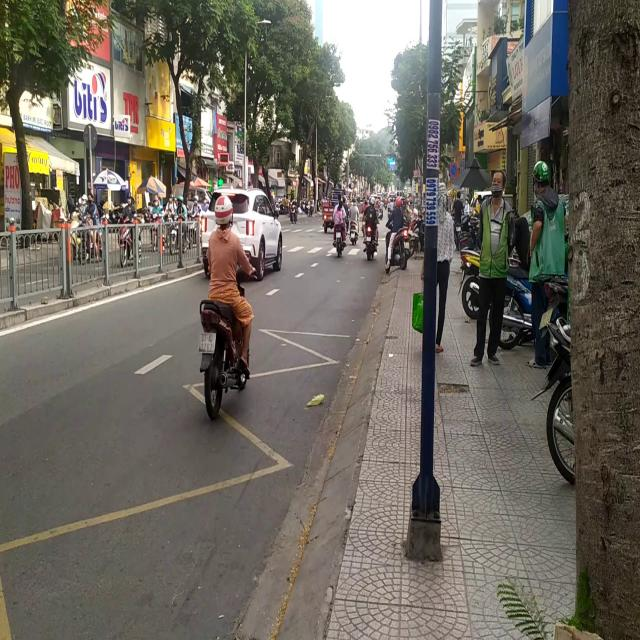bien_trang: (199, 329, 217, 355)
